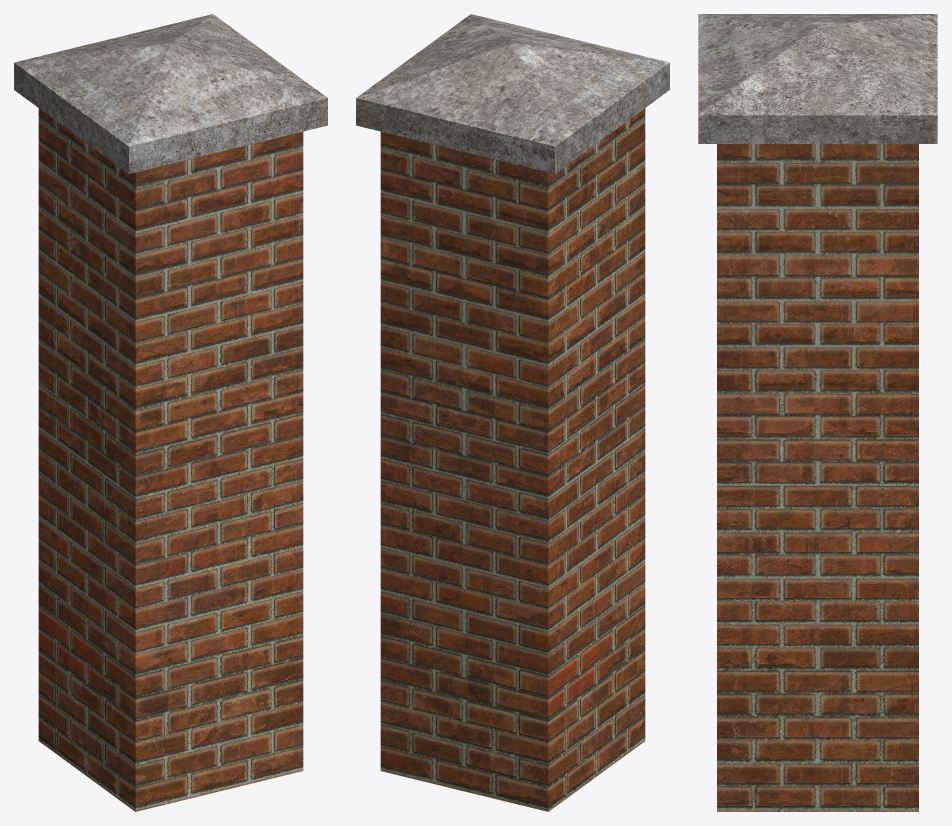
File: brick_wall_post.DAE
3 views of the same model, side by side, from view 1: azimuth 30°, elevation 25°; view 2: azimuth 150°, elevation 25°; view 3: azimuth 270°, elevation 25° (orthographic). The views are drawn at different scales.
Parts seen in each view (by area): view 1: bricks_low, Object001; view 2: bricks_low, Object001; view 3: bricks_low, Object001.
Boxes of the visible parts, x1,y1,x2,y2 form: bricks_low: (38, 108, 303, 811); Object001: (14, 14, 327, 173); bricks_low: (380, 108, 645, 811); Object001: (356, 14, 669, 173); bricks_low: (717, 144, 918, 811); Object001: (698, 14, 937, 143).
Bounding box in the file's own units: 1.28 × 4.39 × 1.28.
